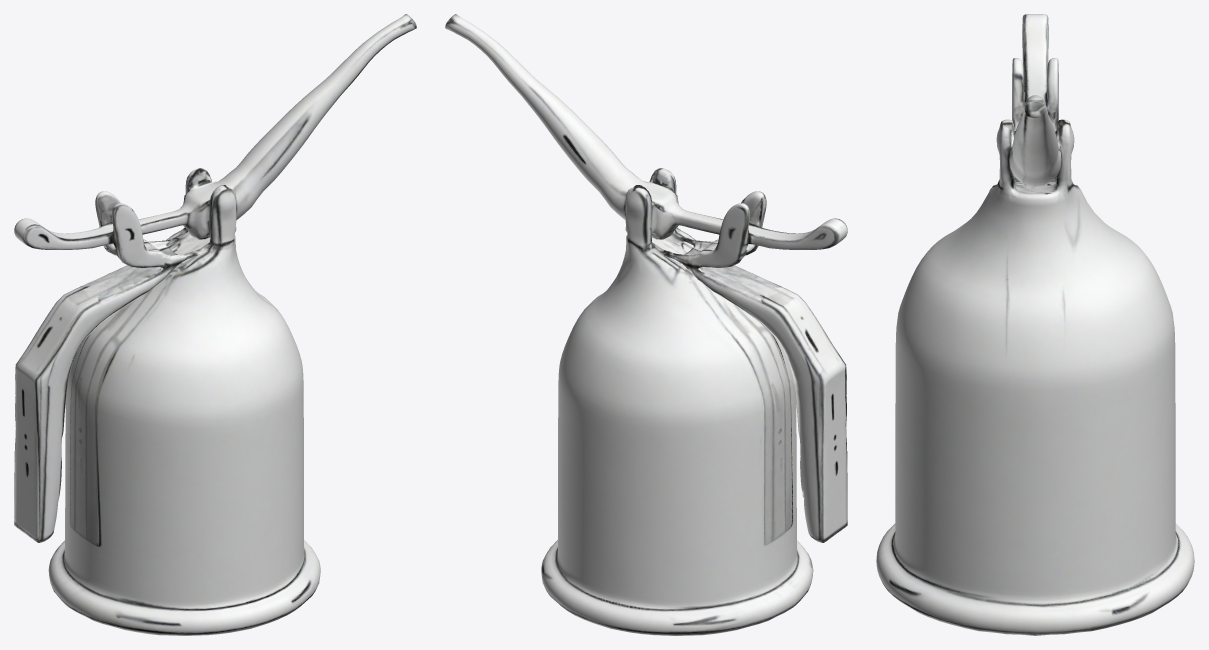
File: mate.glb
The picture shows the model from 3 angles, left to right: view 1: azimuth 30°, elevation 25°; view 2: azimuth 150°, elevation 25°; view 3: azimuth 270°, elevation 25°; orthographic projection. The views are drawn at different scales.
Size of the model in its own units: 1.62 by 2 by 0.9611.
1 material, 1 textured.
